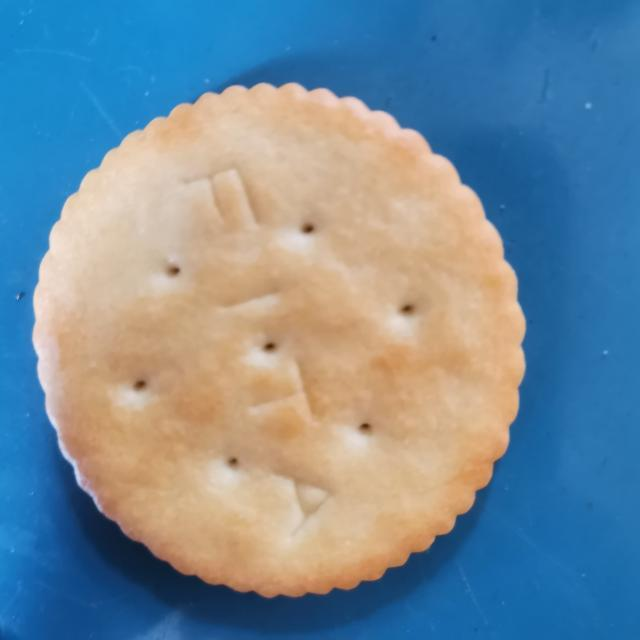Intact: (26, 70, 536, 604)
